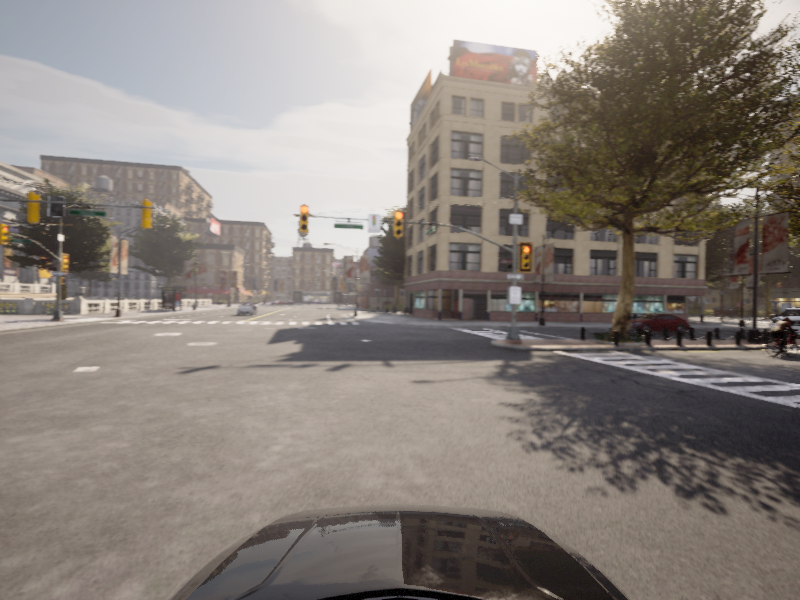vehicle: (758, 316, 799, 358), (616, 312, 694, 334), (765, 306, 799, 339), (235, 301, 258, 316)
